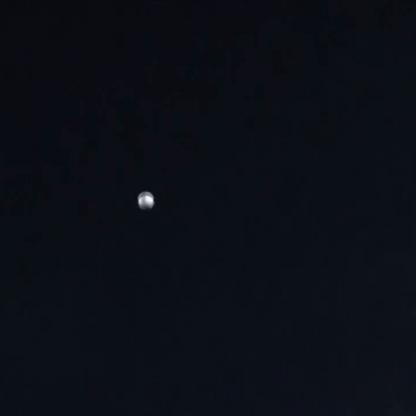ball: (134, 183, 156, 213)
